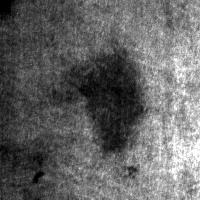patches: (73, 46, 145, 157), (114, 0, 200, 56), (128, 0, 200, 52)
